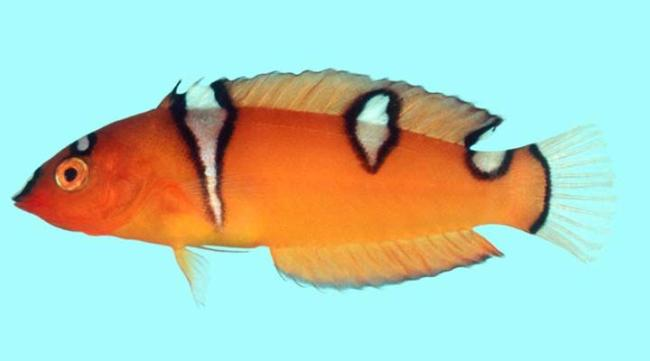fish: (12, 68, 616, 309)
